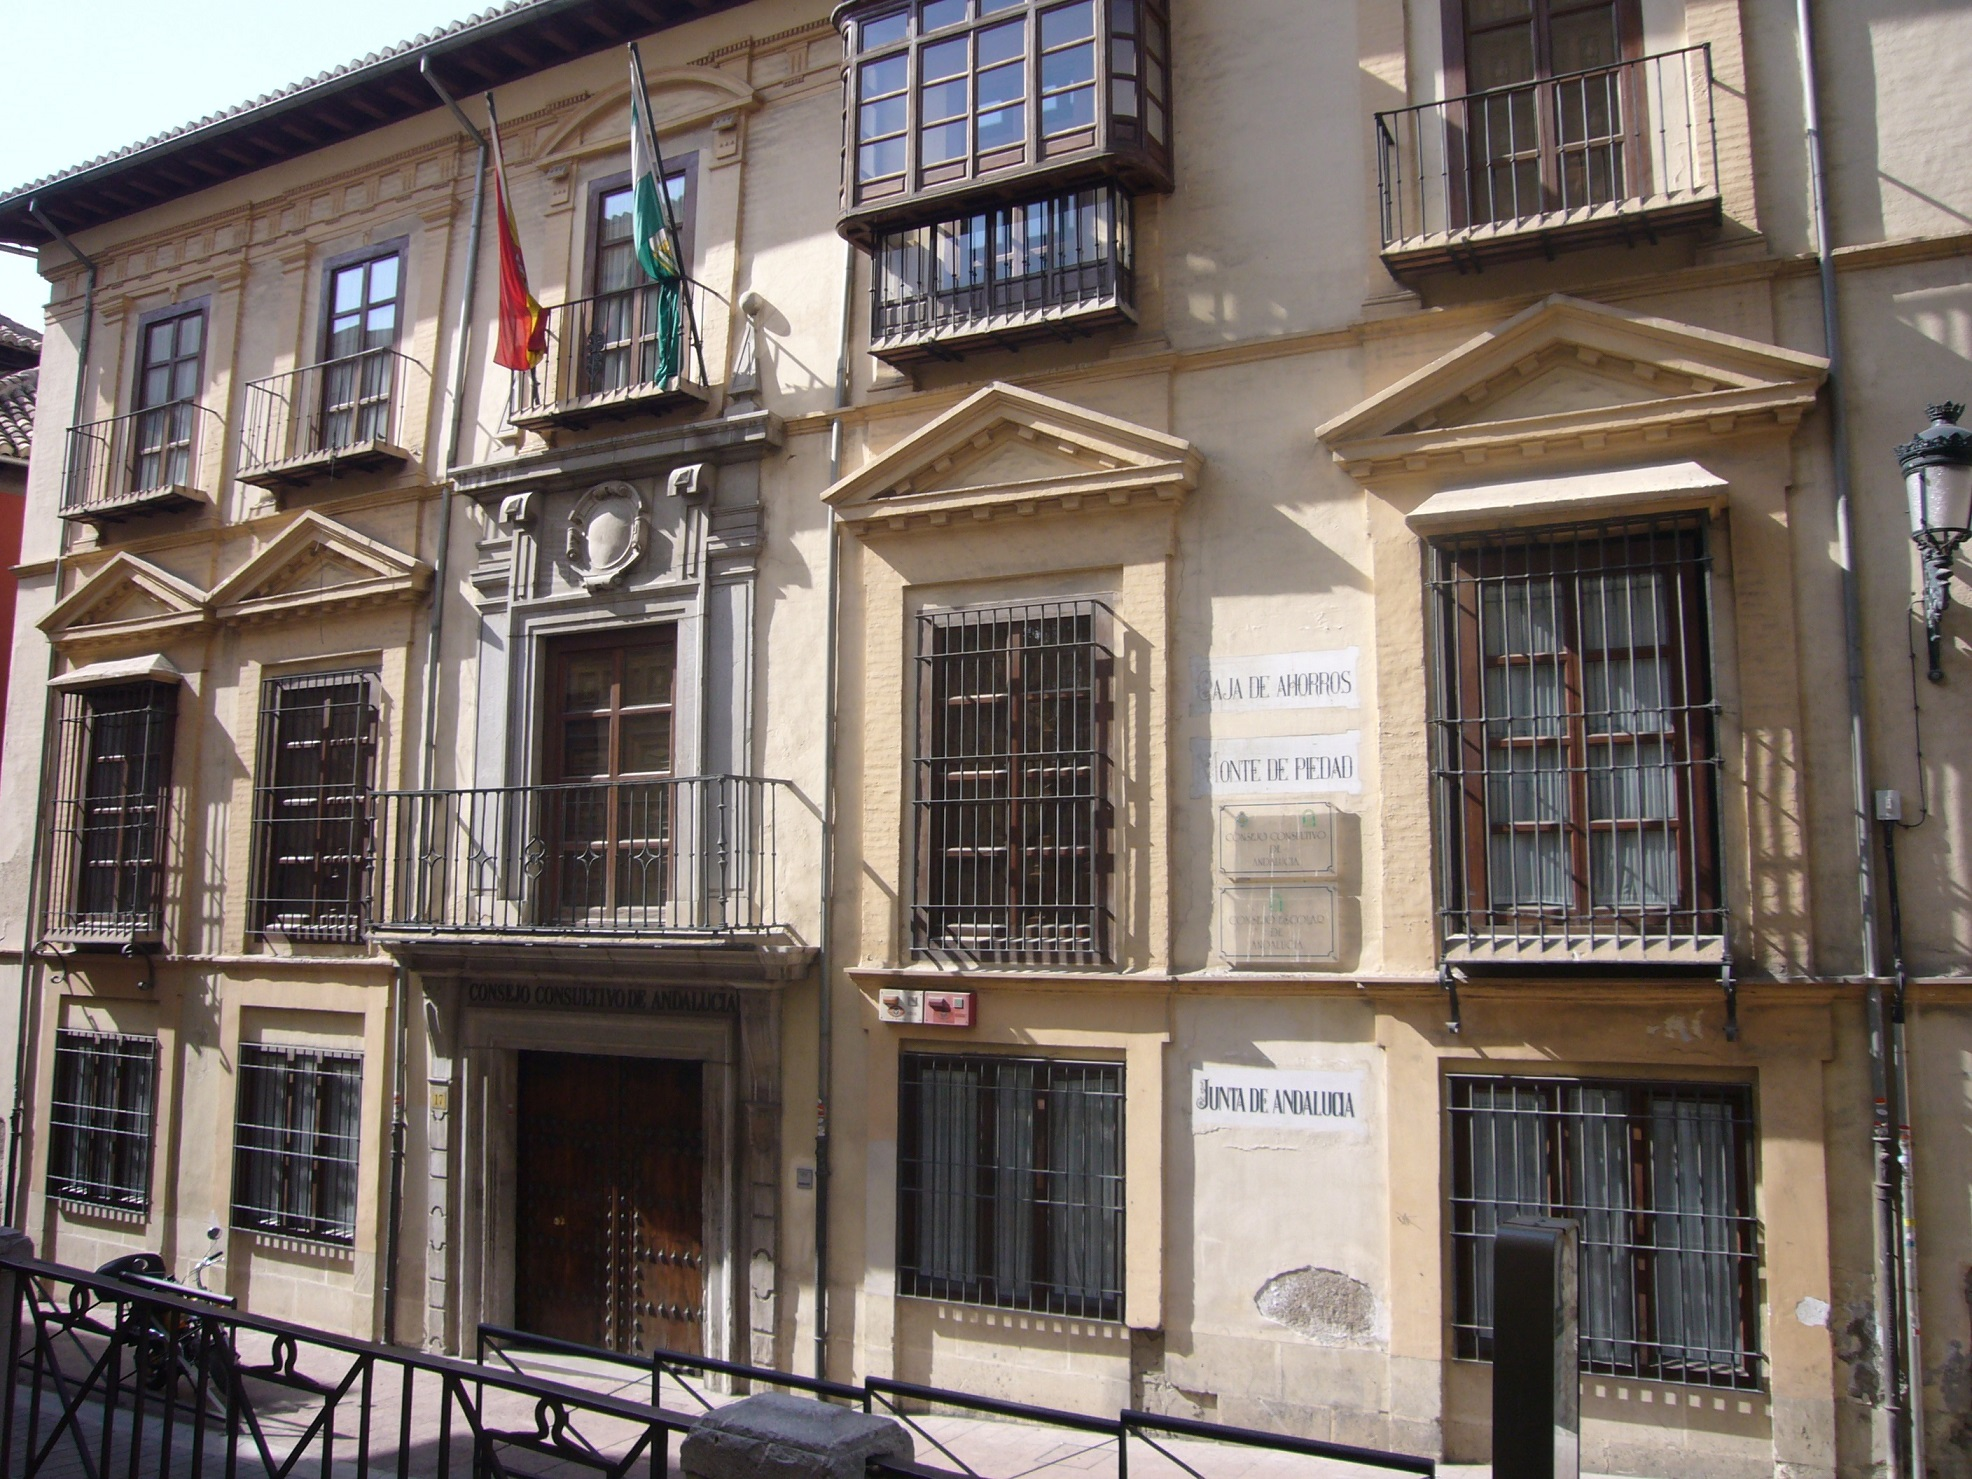fronton: (1321, 291, 1832, 465), (817, 378, 1199, 536), (208, 503, 432, 625), (36, 548, 205, 652)
fronton-curvo: (523, 64, 769, 176)
vano-adintelado: (1401, 480, 1742, 952), (882, 553, 1132, 969), (494, 583, 707, 931), (228, 642, 391, 959), (37, 660, 189, 952), (554, 155, 707, 395), (298, 224, 416, 457), (102, 287, 214, 502)
